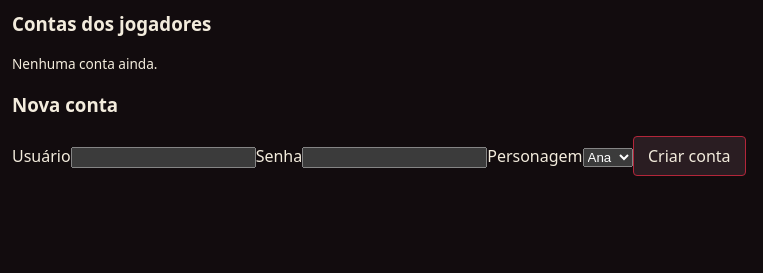
Test case: AccountsPanel: robustez › ignora resposta antiga que chega depois da mais nova
Type "ana" into the field labelled "Usuário" at {"x": 163, "y": 157}, box left=71, top=147, right=256, bottom=168
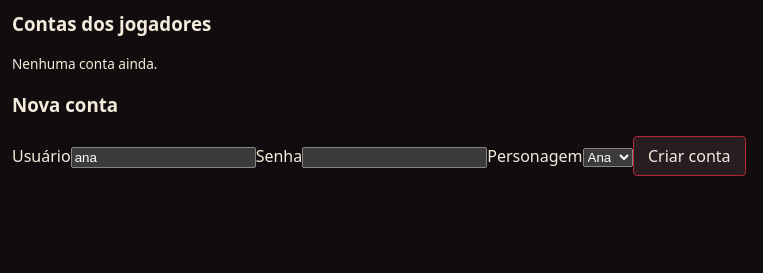
Type "segredo1" into the password field labelled "Senha" at {"x": 395, "y": 157}, box left=302, top=147, right=487, bottom=168
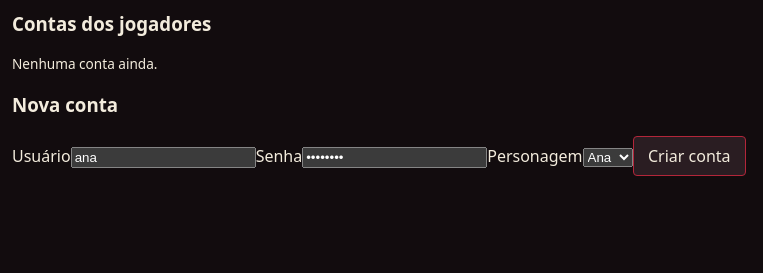
Click the button "Criar conta" at {"x": 689, "y": 156}, box left=633, top=136, right=746, bottom=176
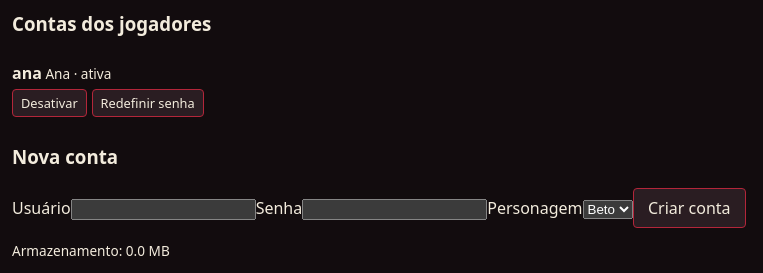
Expected: the text "ana" is shown, left=12, top=62, right=42, bottom=84
Expected: the text "Nenhuma conta ainda." is gone
